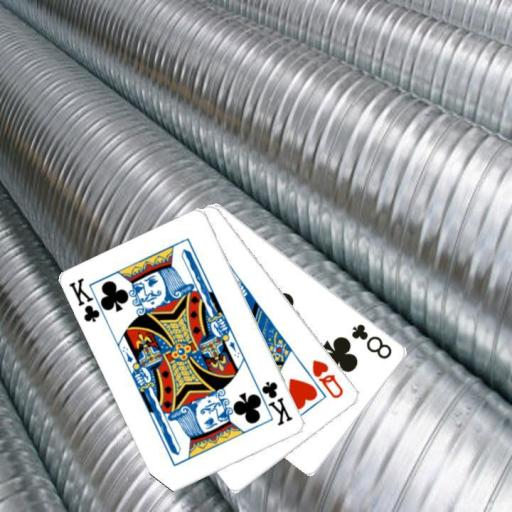8C: (348, 320, 394, 361)
KC: (66, 275, 110, 324), (251, 379, 294, 428)
QH: (309, 357, 346, 401)
